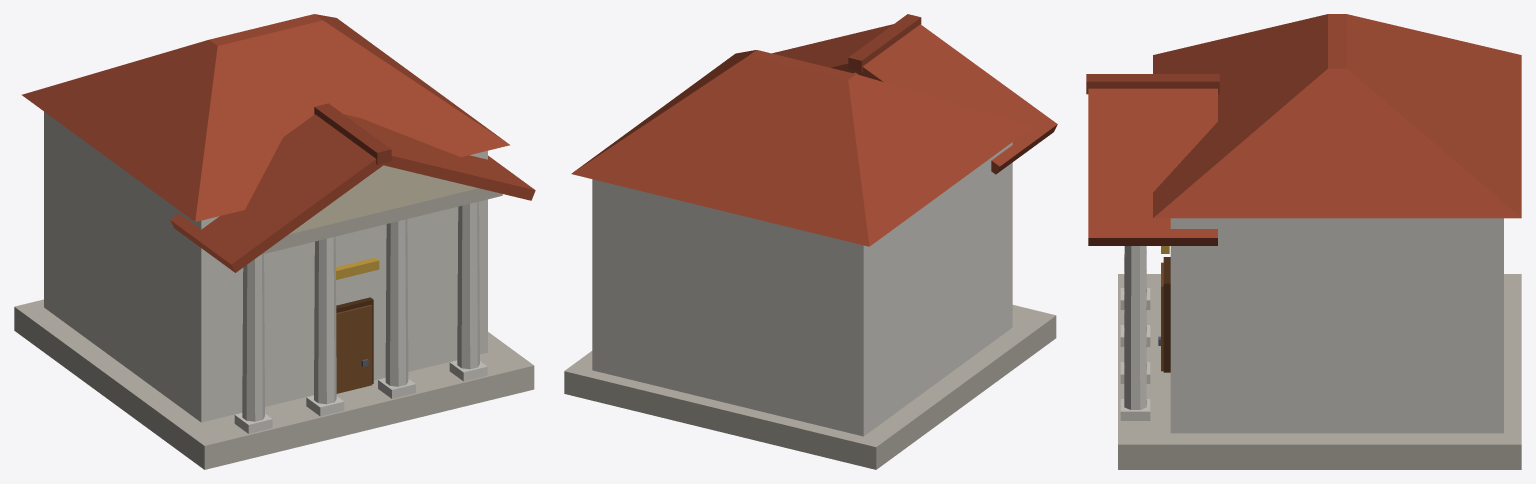
File: angel_house_a.glb
The picture shows the model from 3 angles, left to right: view 1: azimuth 30°, elevation 25°; view 2: azimuth 150°, elevation 25°; view 3: azimuth 270°, elevation 25°; orthographic projection. The views are drawn at different scales.
Visible parts, largest first — view 1: angel_house_a; view 2: angel_house_a; view 3: angel_house_a.
Part boxes in pixels (left/top/right/bottom): angel_house_a: left=14, top=14, right=535, bottom=469; angel_house_a: left=564, top=14, right=1057, bottom=469; angel_house_a: left=1086, top=14, right=1521, bottom=469.
Bounding box in the file's own units: 2.3 × 2.16 × 2.48.
